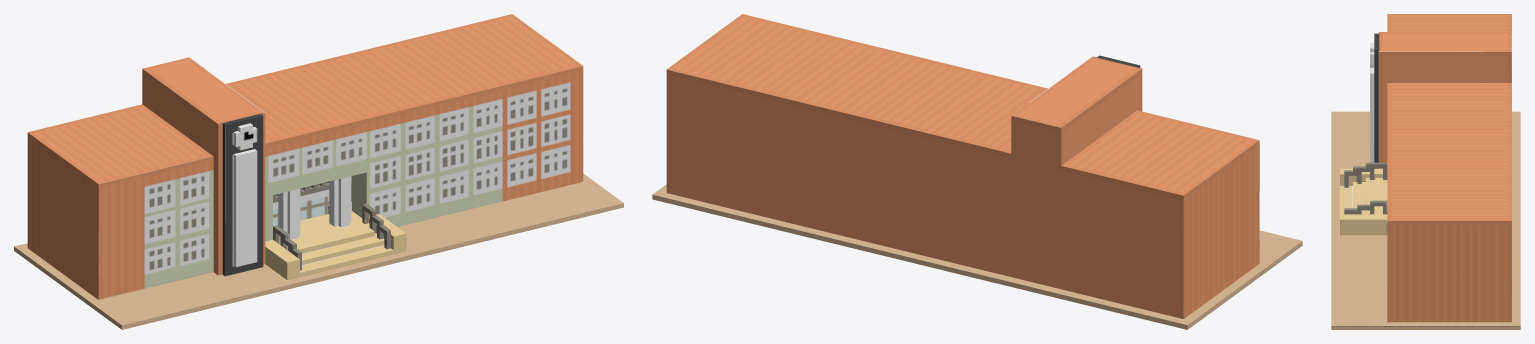
File: kagoshimadaigaku.glb
3 views of the same model, side by side, from view 1: azimuth 30°, elevation 25°; view 2: azimuth 150°, elevation 25°; view 3: azimuth 270°, elevation 25° (orthographic). The views are drawn at different scales.
Visible parts, largest first — view 1: kagoshimadaigaku; view 2: kagoshimadaigaku; view 3: kagoshimadaigaku.
Part boxes in pixels (left/top/right/bottom): kagoshimadaigaku: left=14, top=14, right=623, bottom=329; kagoshimadaigaku: left=652, top=14, right=1302, bottom=329; kagoshimadaigaku: left=1331, top=14, right=1520, bottom=329.
Bounding box in the file's own units: 2.36 × 0.7 × 0.88.
1 material, 1 textured.
